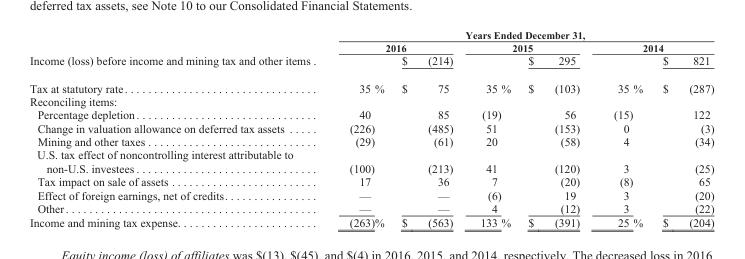table: (28, 29, 713, 228)
table column: (28, 29, 332, 228), (518, 29, 596, 228), (392, 29, 465, 228), (652, 29, 713, 228), (332, 29, 392, 228), (596, 29, 652, 228), (465, 29, 518, 228)
table column header: (28, 29, 713, 94)
table projected row header: (28, 94, 713, 107)
table row: (28, 53, 713, 94), (28, 147, 713, 174), (28, 107, 713, 121), (28, 187, 713, 201), (28, 201, 713, 215), (28, 94, 713, 107), (28, 121, 713, 134), (28, 134, 713, 147), (28, 174, 713, 187), (28, 215, 713, 228), (28, 29, 713, 41), (28, 41, 713, 53)
table spanning cell: (28, 29, 332, 94), (332, 29, 713, 41), (332, 41, 465, 53), (465, 41, 596, 53), (596, 41, 713, 53)
